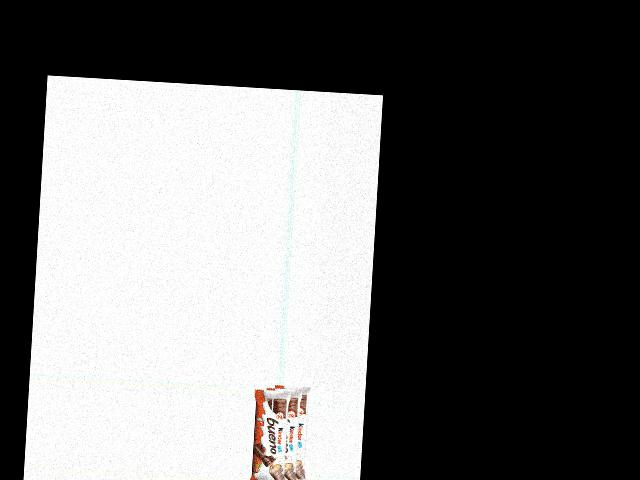chocolate: (248, 384, 311, 480)
